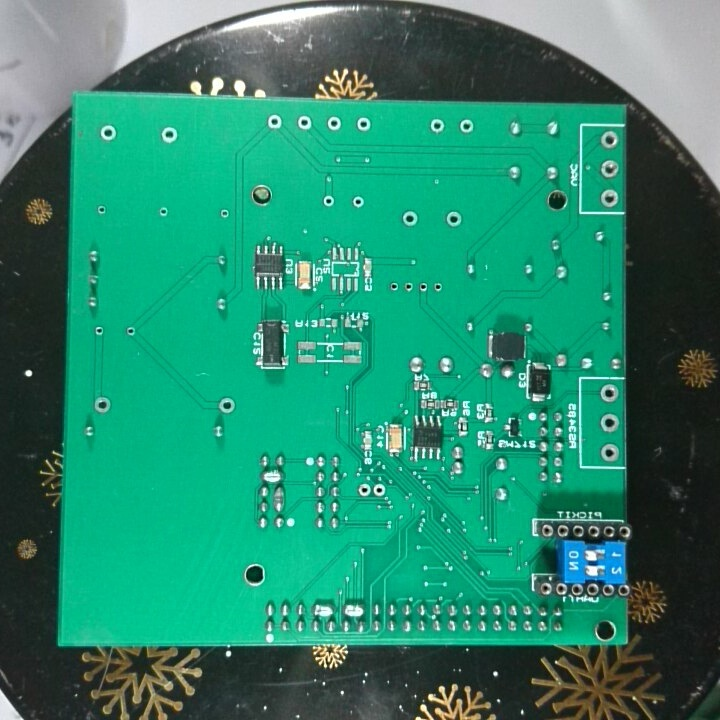F: (596, 381, 621, 406), (597, 155, 621, 180), (598, 441, 622, 465), (321, 113, 347, 135), (598, 412, 620, 436), (352, 113, 376, 135), (597, 186, 620, 208), (426, 115, 450, 136), (599, 128, 620, 152), (97, 122, 119, 144), (294, 113, 317, 134), (217, 395, 237, 419), (93, 392, 113, 416), (159, 123, 179, 147), (264, 112, 285, 133), (457, 116, 477, 138), (399, 208, 419, 230), (443, 209, 463, 229), (349, 192, 367, 212), (429, 278, 445, 300), (355, 480, 373, 499), (414, 276, 430, 297), (91, 323, 110, 340), (372, 479, 386, 501), (122, 322, 139, 340), (93, 201, 111, 218), (385, 278, 403, 295), (321, 192, 337, 210), (400, 277, 415, 296), (216, 206, 234, 221), (155, 203, 171, 218)
P: (311, 598, 339, 619), (340, 598, 367, 618), (271, 481, 287, 513), (257, 469, 287, 485)
